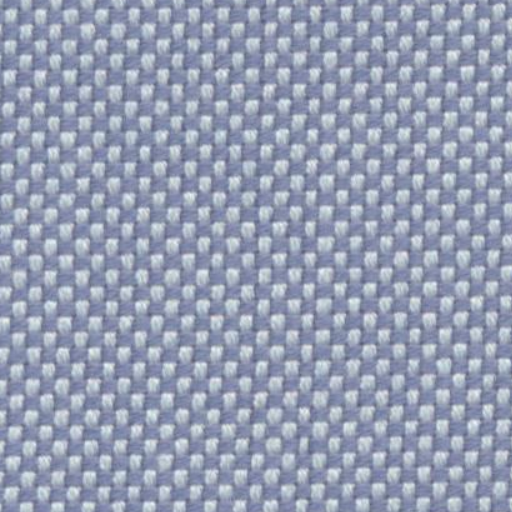TuoSha: (226, 17, 297, 499)
